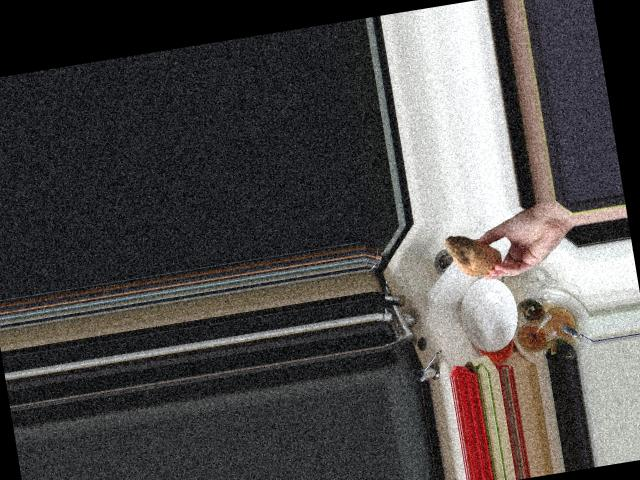sweet_potato: (442, 224, 503, 282)
